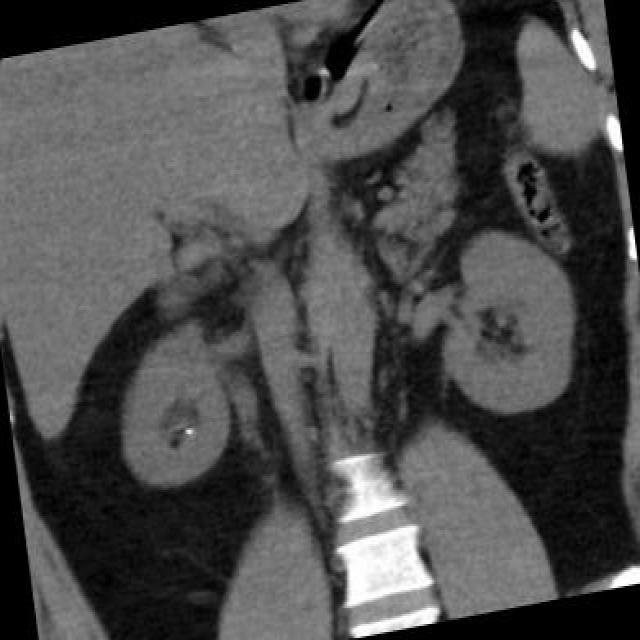Tas_Var: (178, 422, 195, 440)
